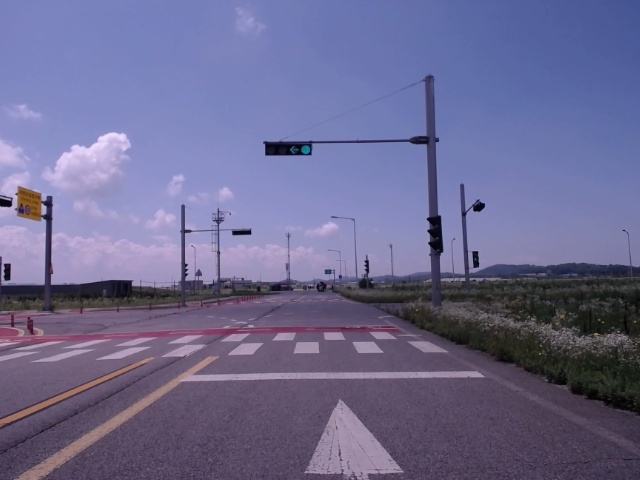all_green_4: (264, 137, 313, 156)
